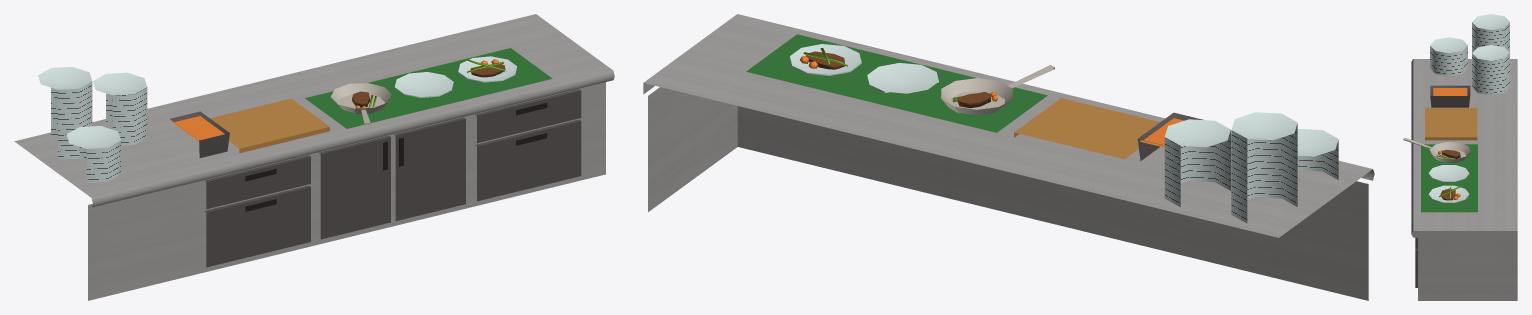
The model's file is interior_B_010.fbx.
The picture shows the model from 3 angles, left to right: view 1: azimuth 30°, elevation 25°; view 2: azimuth 150°, elevation 25°; view 3: azimuth 270°, elevation 25°; orthographic projection. The views are drawn at different scales.
Visible parts, largest first — view 1: interior_B_010; view 2: interior_B_010; view 3: interior_B_010.
Boxes of the visible parts, x1,y1,x2,y2 form: interior_B_010: (14, 14, 614, 300); interior_B_010: (643, 14, 1374, 300); interior_B_010: (1403, 14, 1517, 300).
Size of the model in its own units: 378 by 121 by 106.
